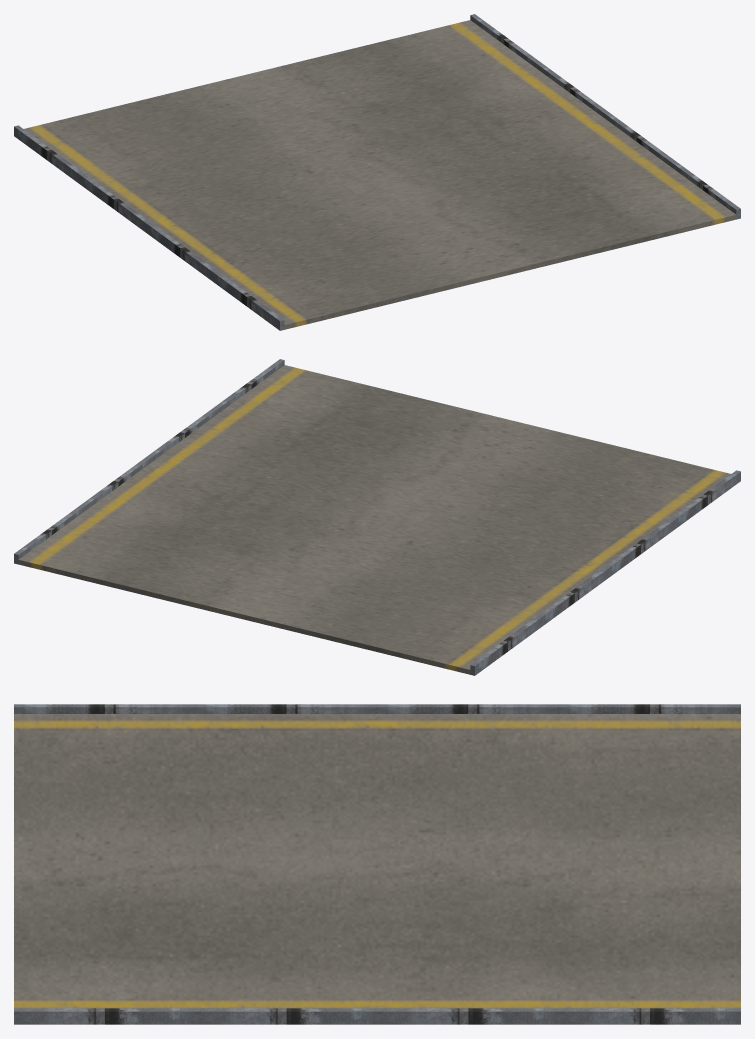
The model's file is Urban_Road2StraightSmallSides_Model.fbx.
3 renders of one model, top to bottom at view 1: azimuth 30°, elevation 25°; view 2: azimuth 150°, elevation 25°; view 3: azimuth 270°, elevation 25°, orthographic. The views are drawn at different scales.
Parts seen in each view (by area): view 1: Urban_Road2StraightSmallSides_Mesh; view 2: Urban_Road2StraightSmallSides_Mesh; view 3: Urban_Road2StraightSmallSides_Mesh.
Boxes of the visible parts, left/top/right/bottom form: Urban_Road2StraightSmallSides_Mesh: left=14, top=14, right=740, bottom=330; Urban_Road2StraightSmallSides_Mesh: left=14, top=359, right=740, bottom=675; Urban_Road2StraightSmallSides_Mesh: left=14, top=704, right=740, bottom=1024.
Size of the model in its own units: 16 by 0.32 by 16.
